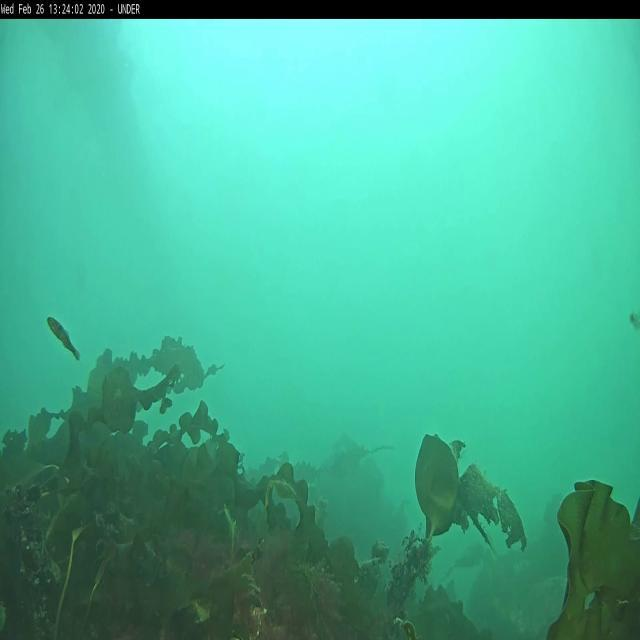fish: (44, 317, 83, 362)
